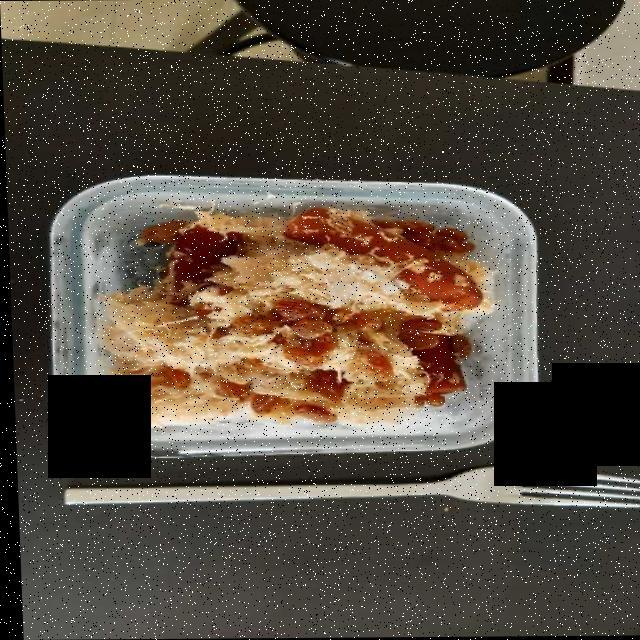raisins: (149, 299, 464, 418)
